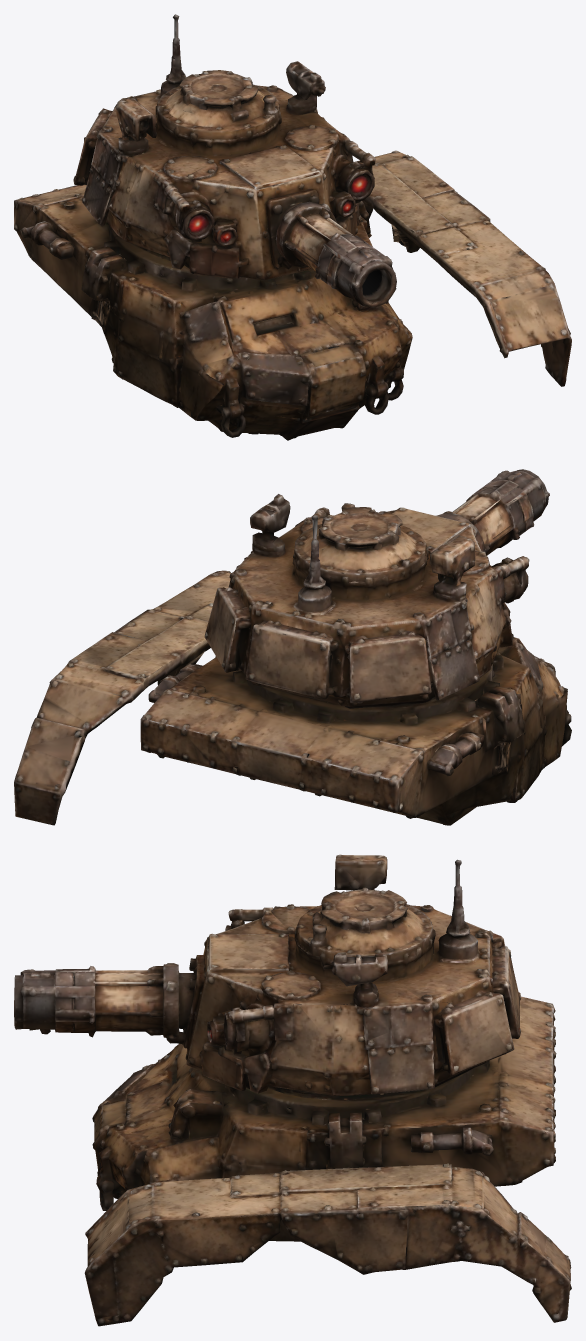
File: Untitled1_closed.fbx
The picture shows the model from 3 angles, top to bottom: view 1: azimuth 30°, elevation 25°; view 2: azimuth 150°, elevation 25°; view 3: azimuth 270°, elevation 25°; orthographic projection. The views are drawn at different scales.
Visible parts, largest first — view 1: Robot_LowPoly_Baked, Robot_LowPoly_Baked.001, Robot_LowPoly_Baked.003, Robot_LowPoly_Baked.002; view 2: Robot_LowPoly_Baked.001, Robot_LowPoly_Baked, Robot_LowPoly_Baked.003, Robot_LowPoly_Baked.002; view 3: Robot_LowPoly_Baked.001, Robot_LowPoly_Baked, Robot_LowPoly_Baked.003, Robot_LowPoly_Baked.002.
Boxes of the visible parts, left/top/right/bottom form: Robot_LowPoly_Baked: left=14, top=184, right=412, bottom=440; Robot_LowPoly_Baked.001: left=73, top=14, right=375, bottom=280; Robot_LowPoly_Baked.003: left=353, top=150, right=571, bottom=386; Robot_LowPoly_Baked.002: left=266, top=189, right=396, bottom=307; Robot_LowPoly_Baked.001: left=204, top=494, right=529, bottom=708; Robot_LowPoly_Baked: left=140, top=637, right=571, bottom=825; Robot_LowPoly_Baked.003: left=14, top=570, right=231, bottom=825; Robot_LowPoly_Baked.002: left=436, top=469, right=549, bottom=555; Robot_LowPoly_Baked.001: left=185, top=854, right=520, bottom=1095; Robot_LowPoly_Baked: left=92, top=996, right=556, bottom=1241; Robot_LowPoly_Baked.003: left=84, top=1163, right=571, bottom=1326; Robot_LowPoly_Baked.002: left=14, top=955, right=204, bottom=1048.
Size of the model in its own units: 79.6 by 63.82 by 91.45.
1 material, 1 textured.
